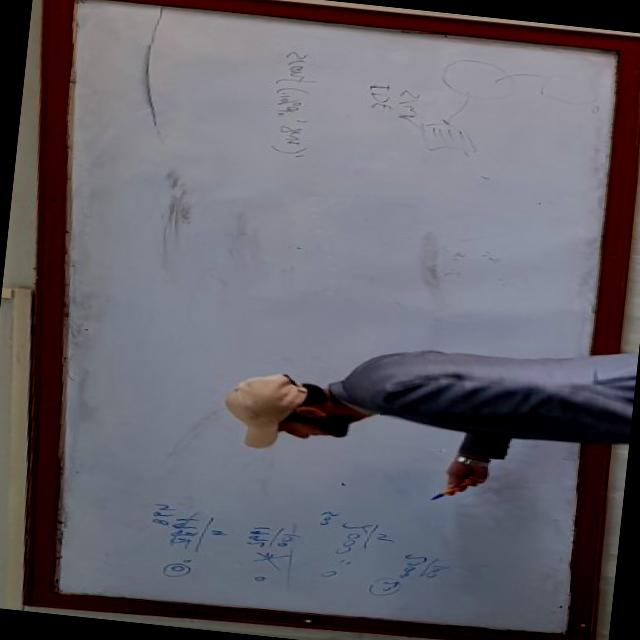Instructor: (188, 322, 636, 484)
White-board: (42, 0, 639, 640)
